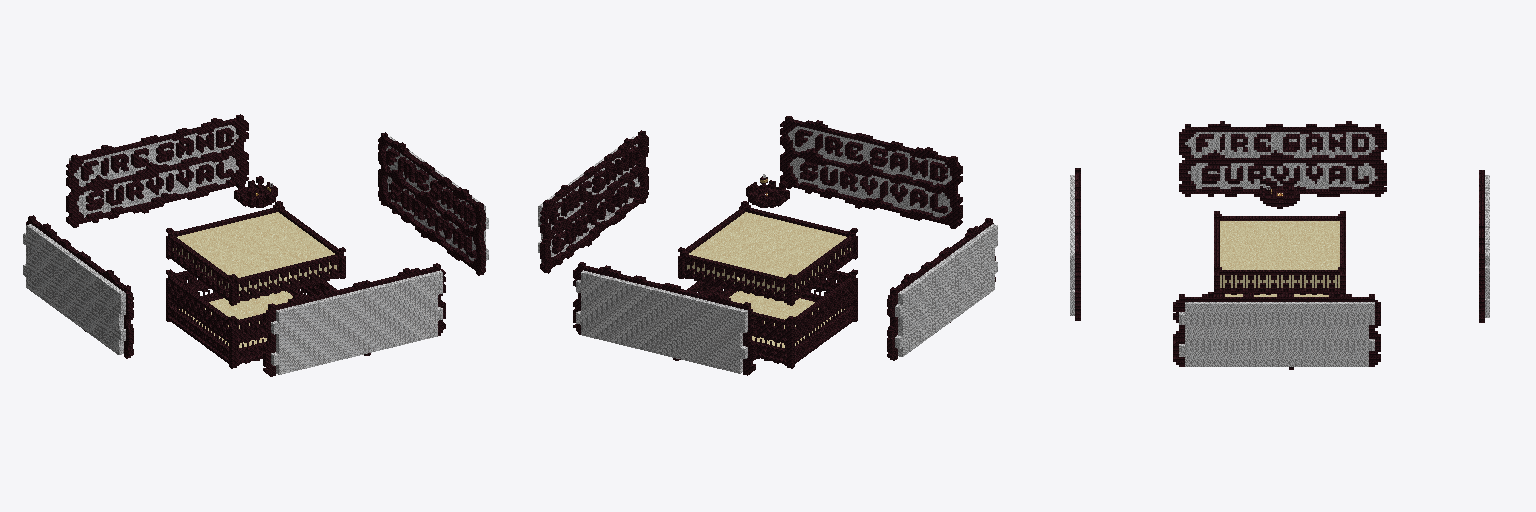
The picture shows the model from 3 angles: view 1: azimuth 30°, elevation 25°; view 2: azimuth 150°, elevation 25°; view 3: azimuth 270°, elevation 25°; orthographic projection.
Size of the model in its own units: 73 by 28.52 by 73.
7 materials, 7 textured.